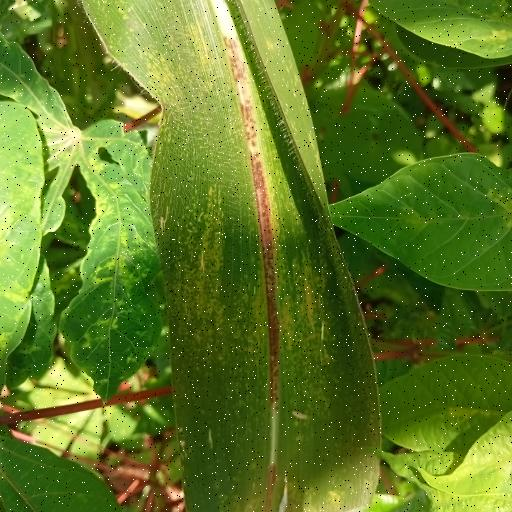Corn_Brown_Spots: (96, 2, 400, 502)
